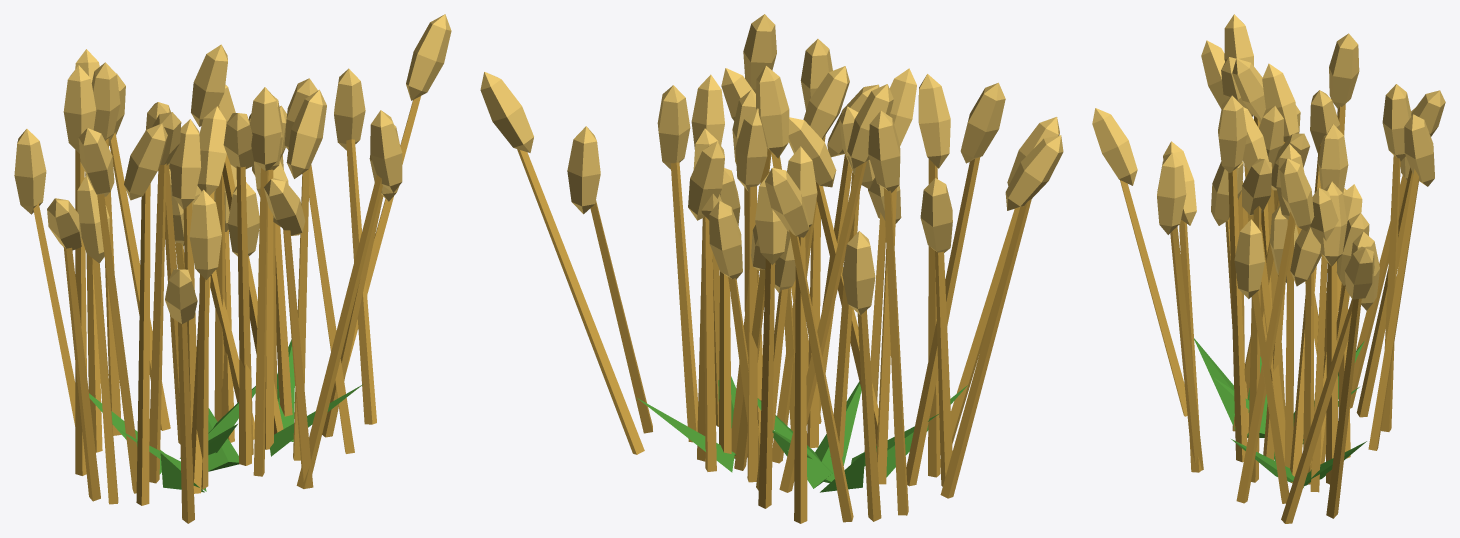
Rendered from Bitki_Bugday_1.fbx.
The picture shows the model from 3 angles, left to right: view 1: azimuth 30°, elevation 25°; view 2: azimuth 150°, elevation 25°; view 3: azimuth 270°, elevation 25°; orthographic projection. The views are drawn at different scales.
Parts seen in each view (by area): view 1: Bitki_Bugday; view 2: Bitki_Bugday; view 3: Bitki_Bugday.
Boxes of the visible parts, x1,y1,x2,y2 form: Bitki_Bugday: (14,14,451,523); Bitki_Bugday: (480,14,1063,523); Bitki_Bugday: (1092,14,1445,523).
Size of the model in its own units: 77.03 by 61.52 by 52.63.
